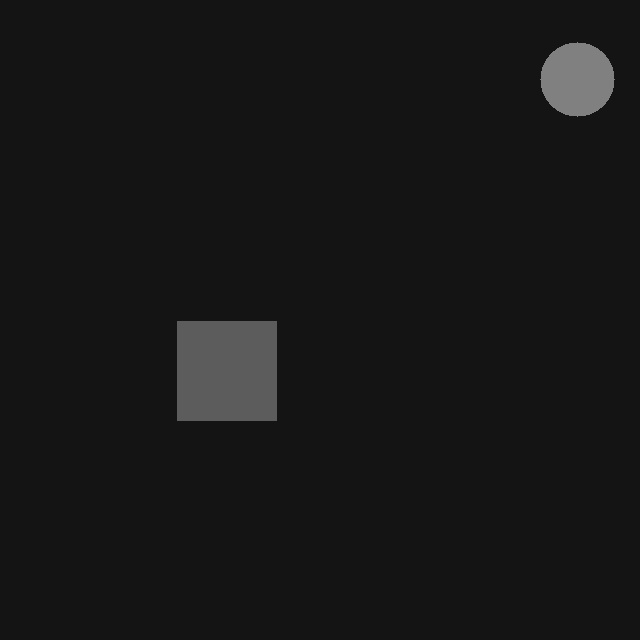circle: (540, 42, 614, 116)
square: (177, 321, 276, 420)
